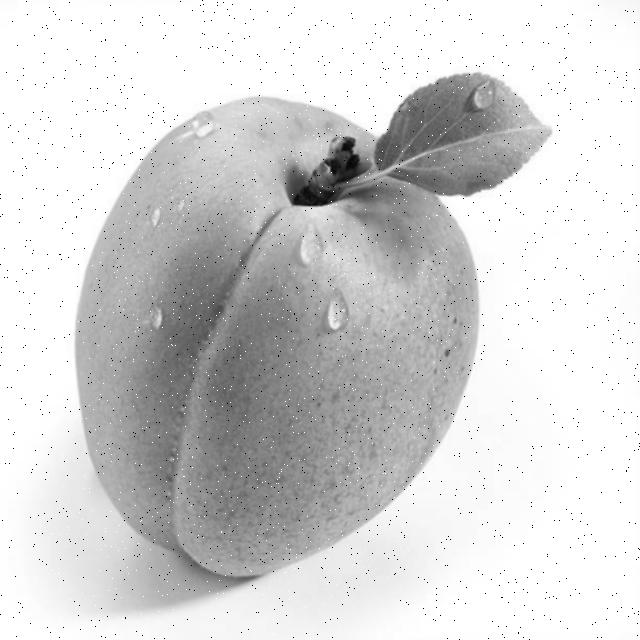kayisi: (150, 100, 426, 580)
yaprak: (386, 95, 554, 198)
